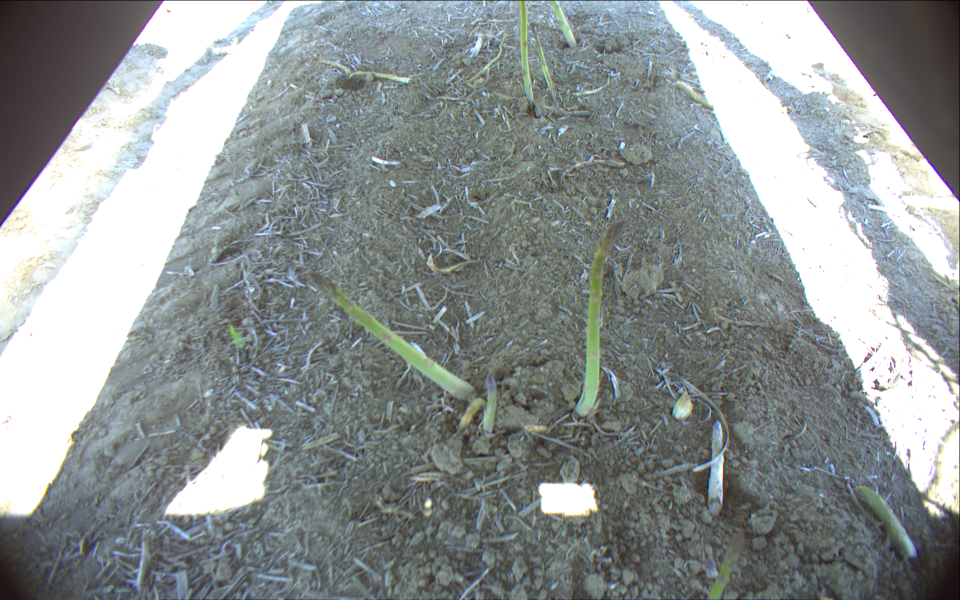aspa: (297, 265, 477, 410), (570, 217, 626, 420), (529, 19, 563, 102), (516, 1, 538, 107), (546, 1, 578, 50)
